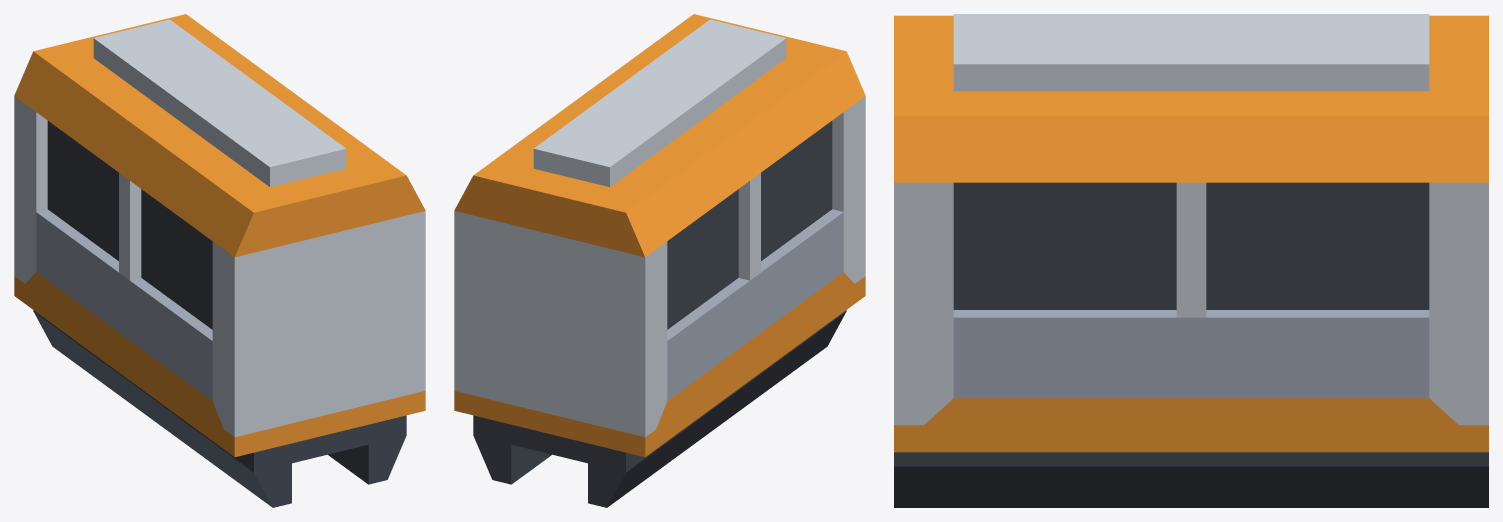
Rendered from monorail_trainPassenger.glb.
The picture shows the model from 3 angles, left to right: view 1: azimuth 30°, elevation 25°; view 2: azimuth 150°, elevation 25°; view 3: azimuth 270°, elevation 25°; orthographic projection. The views are drawn at different scales.
Parts seen in each view (by area): view 1: monorail_trainPassenger; view 2: monorail_trainPassenger; view 3: monorail_trainPassenger.
Boxes of the visible parts, <box> form: monorail_trainPassenger: <box>14,14,425,507</box>; monorail_trainPassenger: <box>454,14,865,507</box>; monorail_trainPassenger: <box>894,14,1488,507</box>.
Bounding box in the file's own units: 0.5 × 0.8 × 1.
